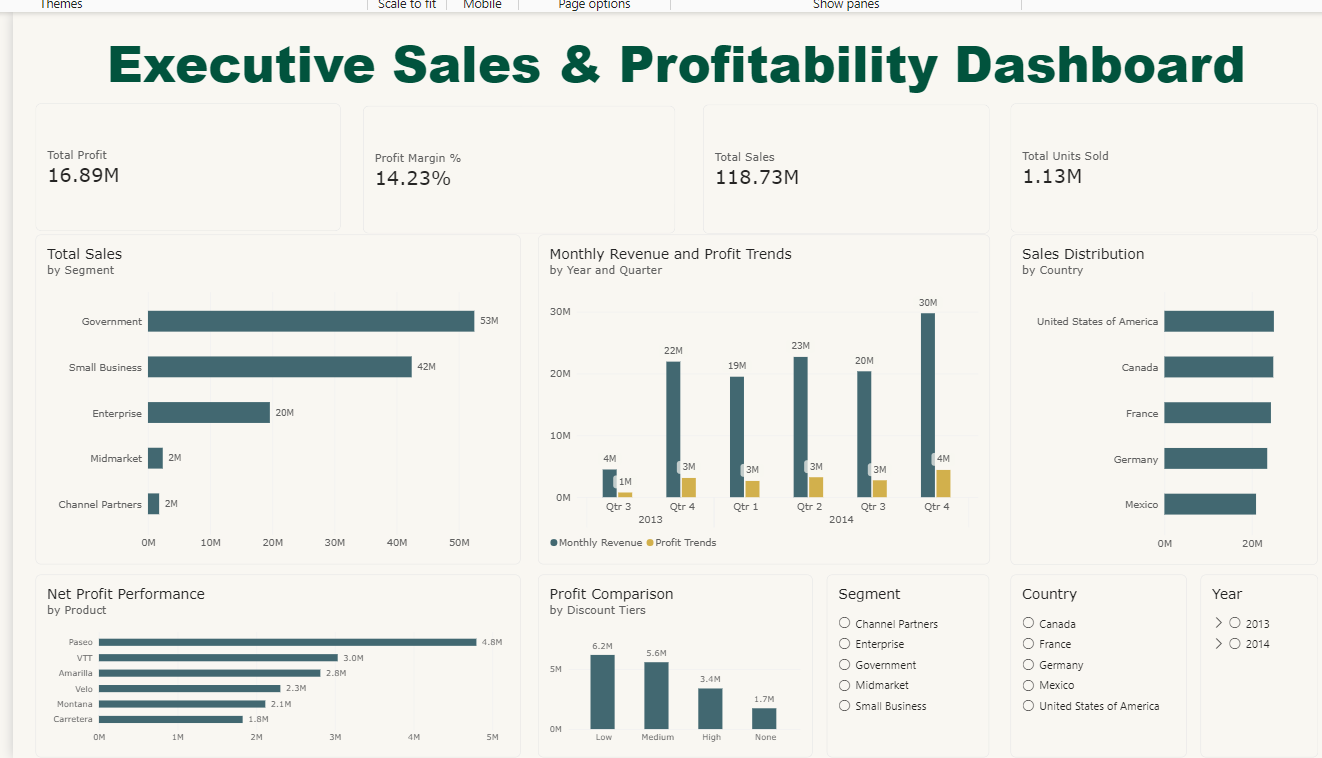

The page's visual inventory and layout, read from the dashboard file:
{"tool":"powerbi","page":{"name":"Page 1","canvas":[1920,1080],"ordinal":0},"visuals":[{"type":"cardVisual","fields":{"Data":["Sheet1.Total Profit"]},"box":[32.5,132.5,442.5,185],"z":0},{"type":"cardVisual","fields":{"Data":["Sheet1.Total Sales"]},"box":[998.3,133.8,415.8,187.3],"z":1000},{"type":"cardVisual","fields":{"Data":["Sheet1.Total Units Sold"]},"box":[1445,132.5,445,187.5],"z":2000},{"type":"cardVisual","fields":{"Data":["Sheet1.Profit Margin %"]},"box":[507.5,135,452.5,185],"z":3000},{"type":"barChart","fields":{"Category":["Sheet1.Segment"],"Y":["Sum(Sheet1. Sales)"]},"box":[32.5,322.5,702.5,477.5],"z":4000},{"type":"lineClusteredColumnComboChart","fields":{"Y":["Sum(Sheet1. Sales)","Sum(Sheet1.Profit)"],"Category":["Sheet1.Date.Variation.Date Hierarchy.Year","Sheet1.Date.Variation.Date Hierarchy.Quarter"]},"box":[760,322.5,654.5,477.5],"z":5000},{"type":"clusteredBarChart","fields":{"Category":["Sheet1.Product"],"Y":["Sum(Sheet1.Profit)"]},"box":[32.5,815,702.5,265],"z":6000},{"type":"listSlicer","fields":{"Values":["Sheet1.Country"]},"box":[1445,815,255,265],"z":7000},{"type":"listSlicer","fields":{"Values":["Sheet1.Segment"]},"box":[1177.5,815,235,265],"z":9000},{"type":"listSlicer","fields":{"Values":["Sheet1.Date.Variation.Date Hierarchy.Year","Sheet1.Date.Variation.Date Hierarchy.Quarter"]},"box":[1720,815,170,265],"z":10000},{"type":"columnChart","fields":{"Y":["Sum(Sheet1.Profit)"],"Category":["Sheet1.Discount Band"]},"box":[760,815,397.5,265],"z":11000},{"type":"textbox","box":[32.5,22.5,1855,152.5],"z":11002},{"type":"clusteredBarChart","fields":{"Category":["Sheet1.Country"],"Y":["Sum(Sheet1. Sales)"]},"box":[1445,323,445,478],"z":11003}]}

Visuals, with their boxes on the page's 1920x1080 design canvas (x1, y1, x2, y2). These are canvas units, not pixel positions in the 1322x758 screenshot, which may show the page scaled, cropped or inside an application window:
cardVisual - Sheet1.Total Profit: (32,132,475,318)
cardVisual - Sheet1.Total Sales: (998,134,1414,321)
cardVisual - Sheet1.Total Units Sold: (1445,132,1890,320)
cardVisual - Sheet1.Profit Margin %: (508,135,960,320)
barChart - Sheet1.Segment x Sum(Sheet1. Sales): (32,322,735,800)
lineClusteredColumnComboChart - Sum(Sheet1. Sales) x Sum(Sheet1.Profit): (760,322,1414,800)
clusteredBarChart - Sheet1.Product x Sum(Sheet1.Profit): (32,815,735,1080)
listSlicer - Sheet1.Country: (1445,815,1700,1080)
listSlicer - Sheet1.Segment: (1178,815,1412,1080)
listSlicer - Sheet1.Date.Variation.Date Hierarchy.Year x Sheet1.Date.Variation.Date Hierarchy.Quarter: (1720,815,1890,1080)
columnChart - Sum(Sheet1.Profit) x Sheet1.Discount Band: (760,815,1158,1080)
textbox: (32,22,1888,175)
clusteredBarChart - Sheet1.Country x Sum(Sheet1. Sales): (1445,323,1890,801)
